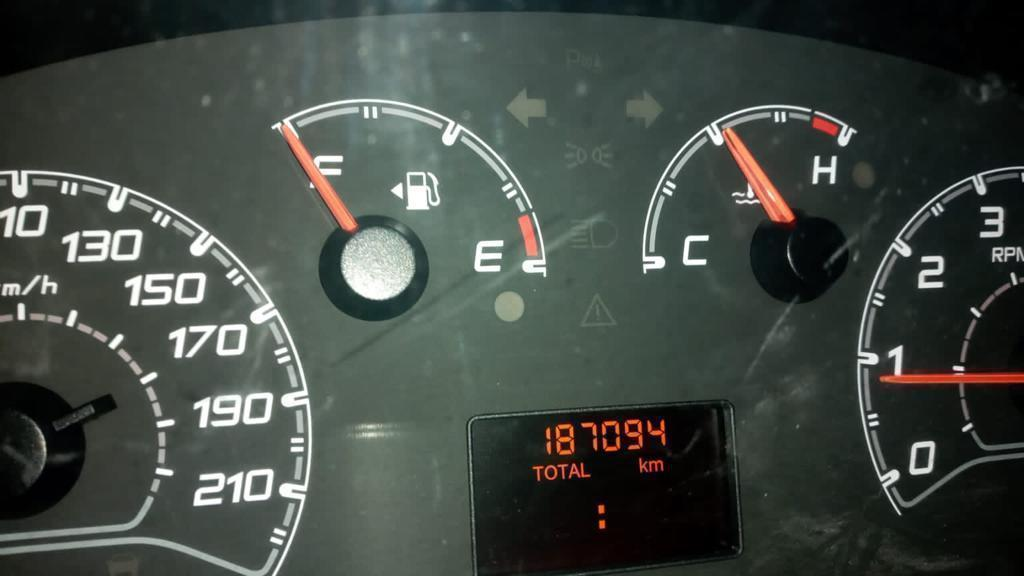0: (599, 418, 621, 452)
1: (542, 423, 552, 455)
4: (645, 417, 668, 447)
7: (579, 420, 598, 452)
8: (554, 422, 576, 456)
9: (623, 418, 645, 450)
X: (595, 503, 607, 530), (531, 465, 544, 482), (568, 461, 580, 479), (648, 459, 664, 472), (545, 463, 557, 480), (557, 463, 568, 479), (638, 456, 648, 473), (580, 462, 590, 478)
odometer: (464, 396, 745, 574)
